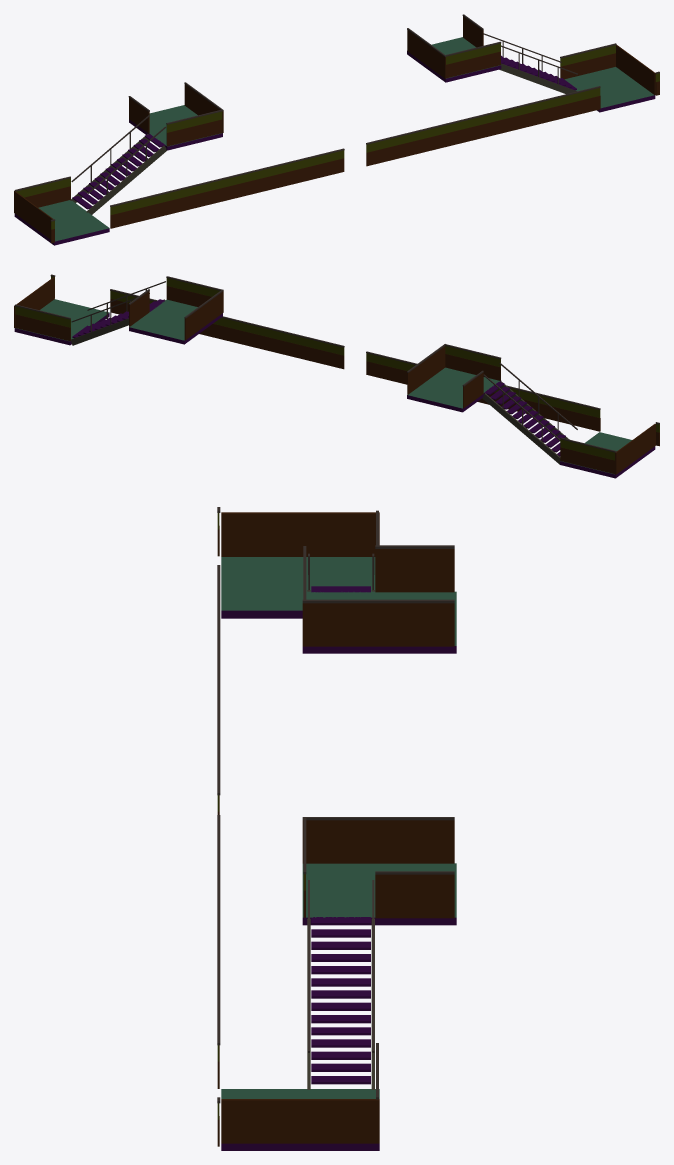
File: monorail_access_n.glb
The picture shows the model from 3 angles, top to bottom: view 1: azimuth 30°, elevation 25°; view 2: azimuth 150°, elevation 25°; view 3: azimuth 270°, elevation 25°; orthographic projection. The views are drawn at different scales.
Visible parts, largest first — view 1: monorail_access_n; view 2: monorail_access_n; view 3: monorail_access_n.
Part boxes in pixels (<box>): monorail_access_n: <box>14,14,659,245</box>; monorail_access_n: <box>14,274,659,478</box>; monorail_access_n: <box>217,507,456,1150</box>.
Size of the model in its own units: 32.8 by 3.88 by 5.59.
